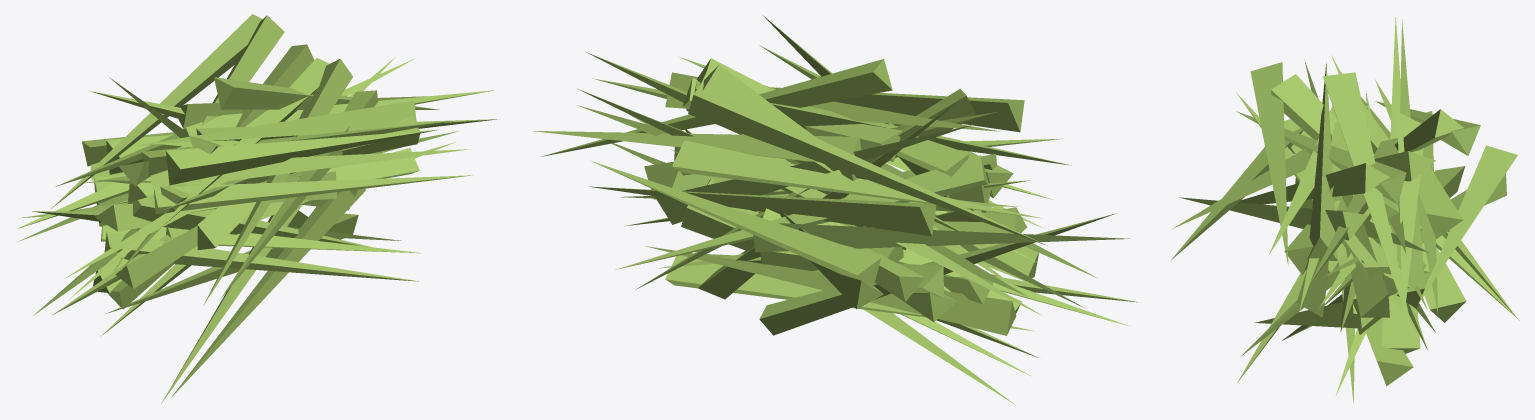
Rendered from CabbageShredded.fbx.
3 views of the same model, side by side, from view 1: azimuth 30°, elevation 25°; view 2: azimuth 150°, elevation 25°; view 3: azimuth 270°, elevation 25° (orthographic). The views are drawn at different scales.
Visible parts, largest first — view 1: 円柱; view 2: 円柱; view 3: 円柱.
Boxes of the visible parts, x1,y1,x2,y2 form: 円柱: [16, 14, 499, 403]; 円柱: [532, 15, 1140, 404]; 円柱: [1171, 17, 1519, 403].
Bounding box in the file's own units: 191 × 113 × 109.
